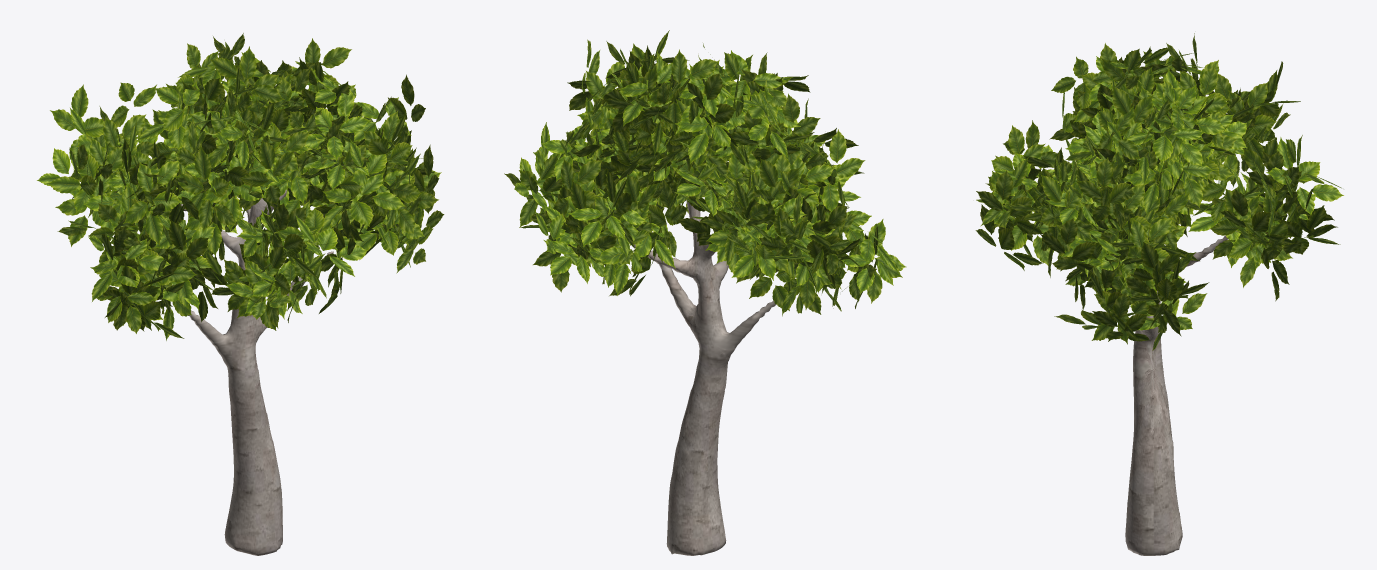
File: cincis-beech-remesh-coarse-study.glb
3 views of the same model, side by side, from view 1: azimuth 30°, elevation 25°; view 2: azimuth 150°, elevation 25°; view 3: azimuth 270°, elevation 25° (orthographic). The views are drawn at different scales.
Parts seen in each view (by area): view 1: Foliage, Trunk and branches; view 2: Foliage, Trunk and branches; view 3: Foliage, Trunk and branches.
Part boxes in pixels (x1,y1,x2,y2): Foliage: [37, 33, 444, 340]; Trunk and branches: [181, 172, 353, 555]; Foliage: [504, 30, 906, 316]; Trunk and branches: [632, 200, 775, 555]; Foliage: [975, 33, 1343, 350]; Trunk and branches: [1125, 231, 1237, 555].
Bounding box in the file's own units: 6.99 × 8.82 × 6.28.
Materials: 2 (2 with a texture image).
